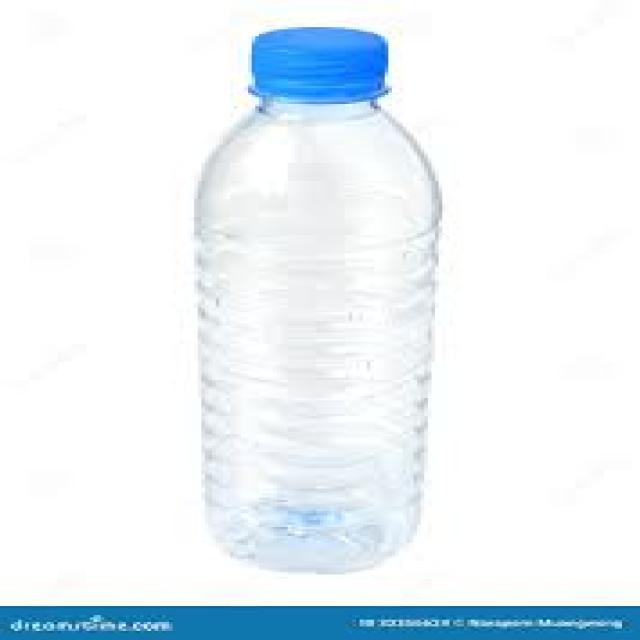plastic cup: (199, 27, 441, 572)
